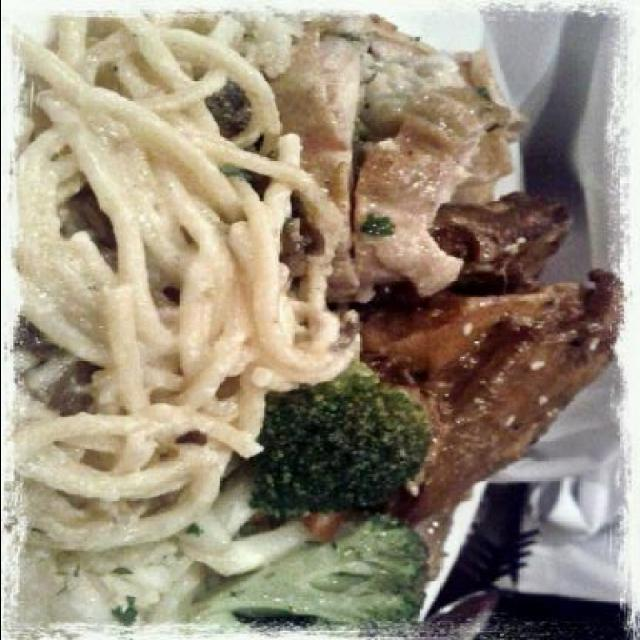Broccoli: (248, 358, 436, 520), (187, 512, 430, 630)
